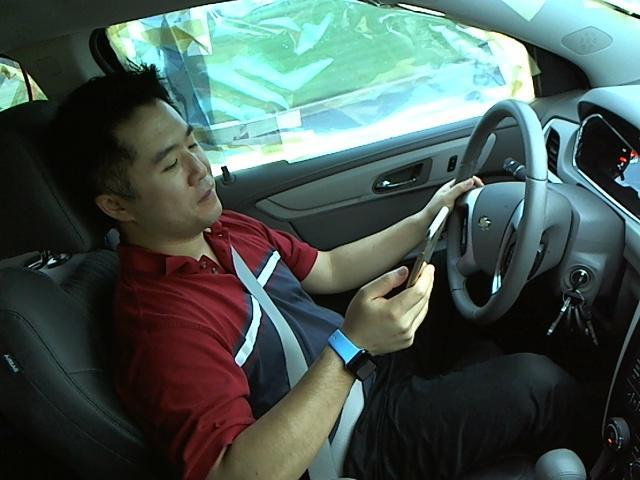PhoneUse: (396, 200, 457, 299)
